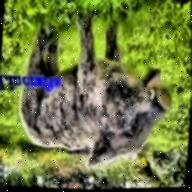boar: (16, 21, 190, 174)
